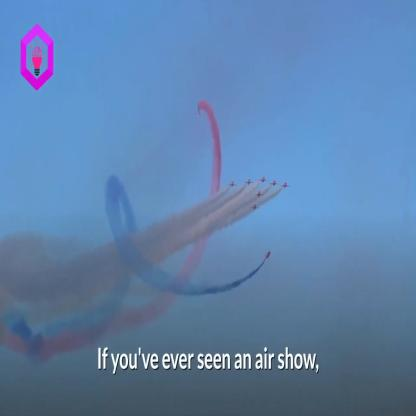plane: (262, 243, 274, 262), (227, 175, 235, 192), (249, 199, 259, 210), (258, 170, 266, 183), (270, 176, 278, 189), (282, 180, 288, 191), (256, 190, 263, 199), (246, 175, 252, 185)
